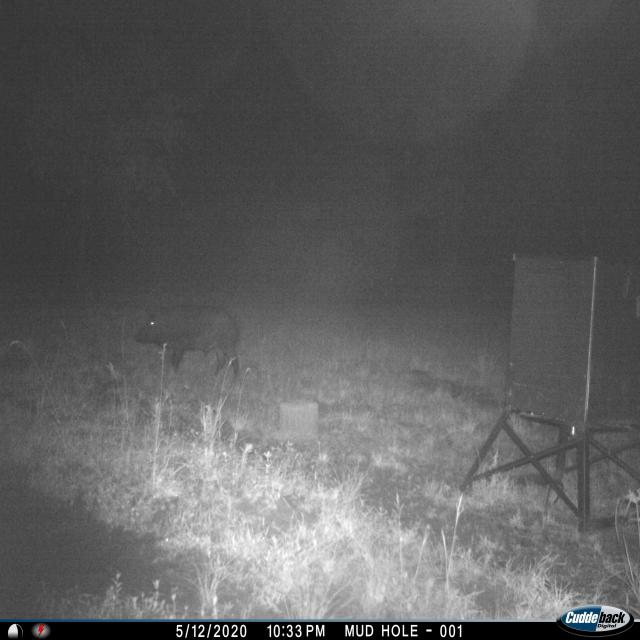wild boar: (136, 298, 245, 384)
